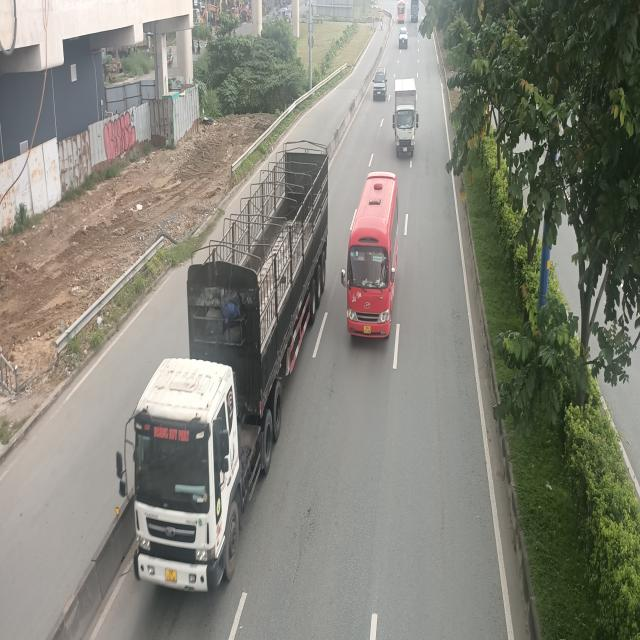car: (374, 70, 388, 100)
coach: (340, 176, 400, 342)
truck: (110, 139, 328, 613), (392, 78, 418, 157)
